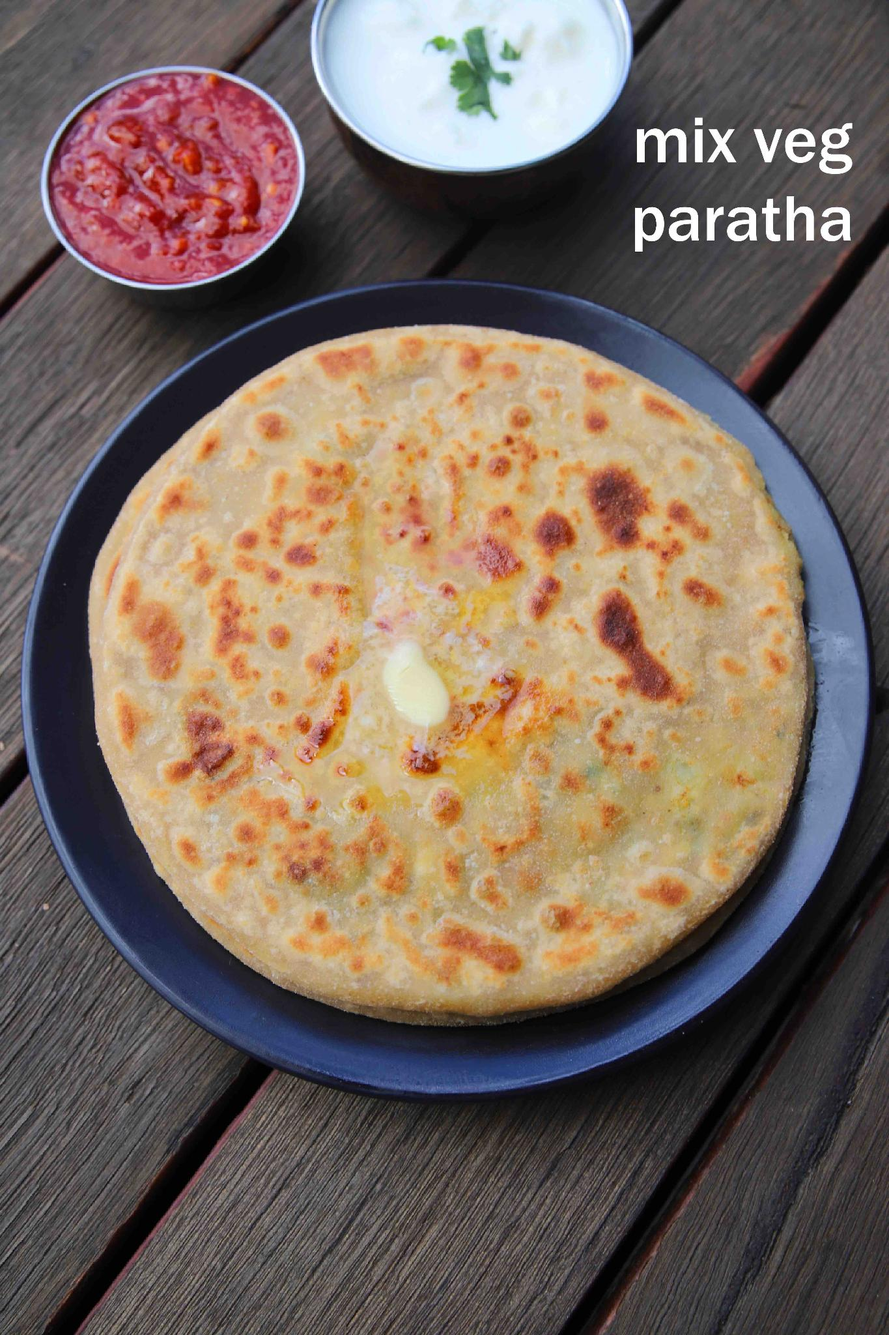paratha: (127, 362, 750, 962)
